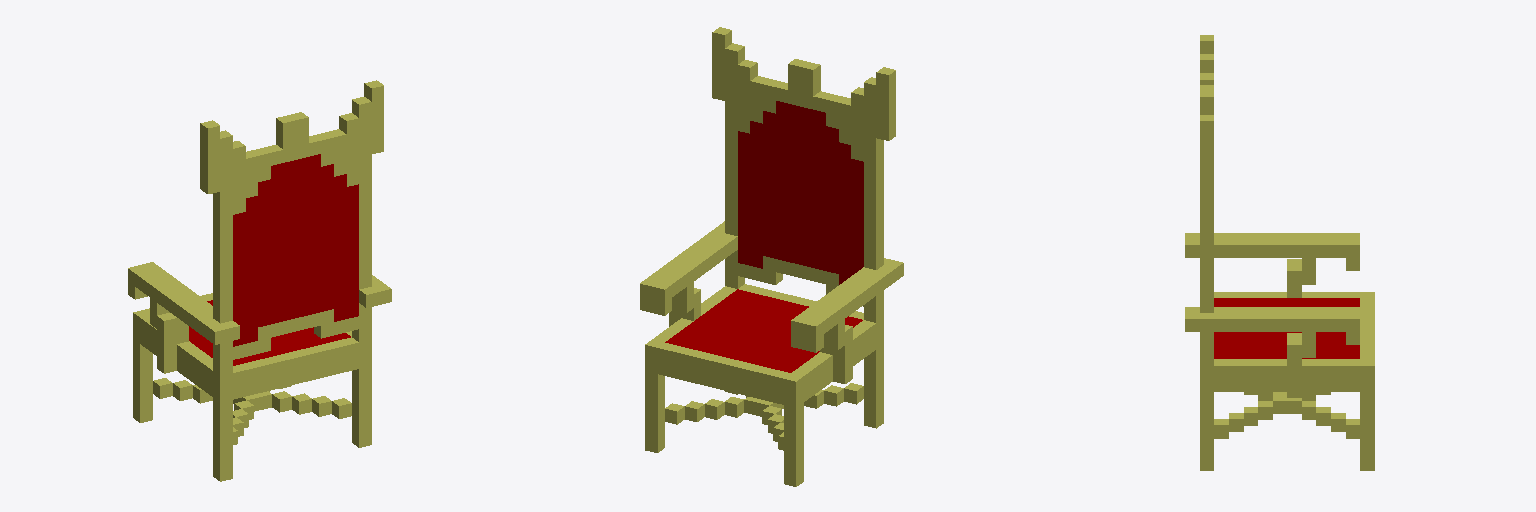
3 renders of one model, left to right at view 1: azimuth 30°, elevation 25°; view 2: azimuth 150°, elevation 25°; view 3: azimuth 270°, elevation 25°, orthographic.
Parts seen in each view (by area): view 1: object 1; view 2: object 1; view 3: object 1.
Boxes of the visible parts, box(x1,y1,x2,y2) form: object 1: box(128, 80, 391, 481); object 1: box(640, 27, 903, 486); object 1: box(1185, 35, 1374, 470).
Bounding box in the file's own units: 1.4 × 2.7 × 1.3.
1 materials, 1 textured.